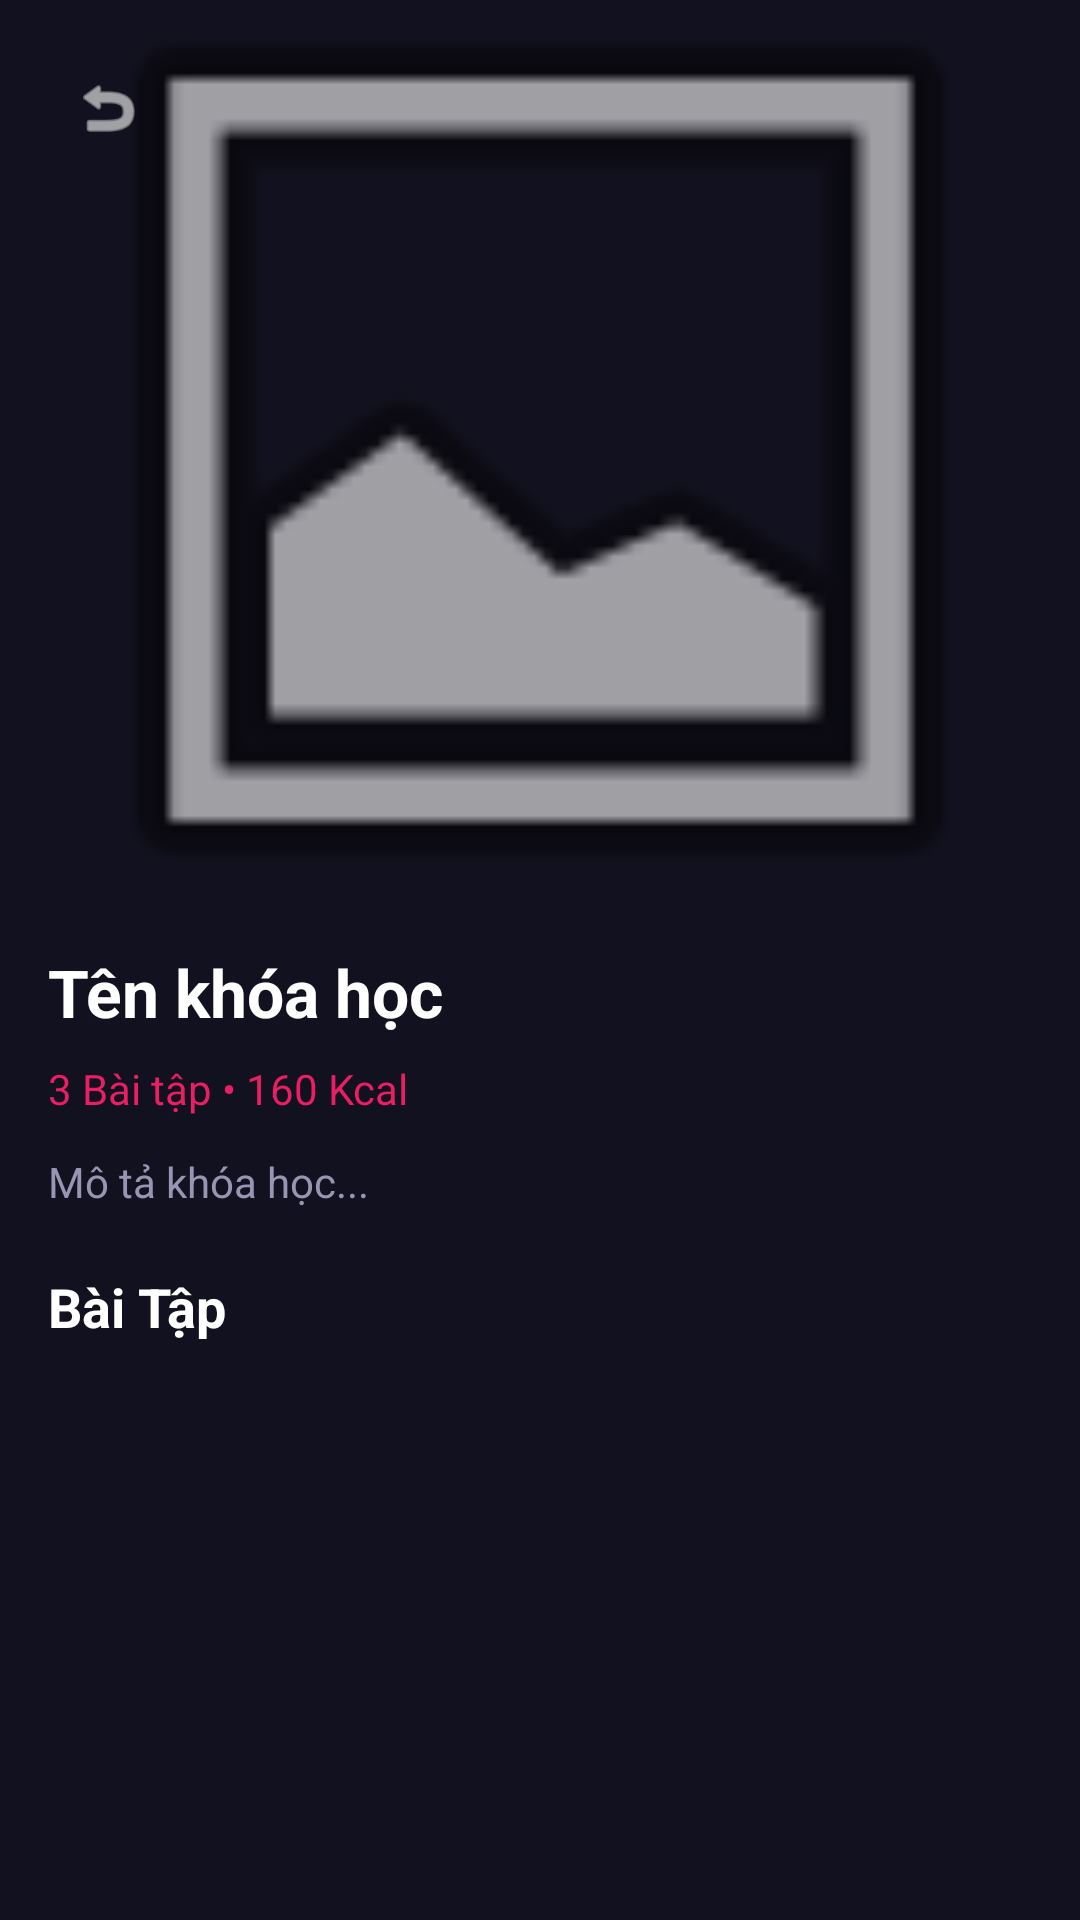

Icons on this 1080 × 1920 Android screen, each with its box as (x1, y1, x2, y2):
revert: (83, 85, 135, 132)
